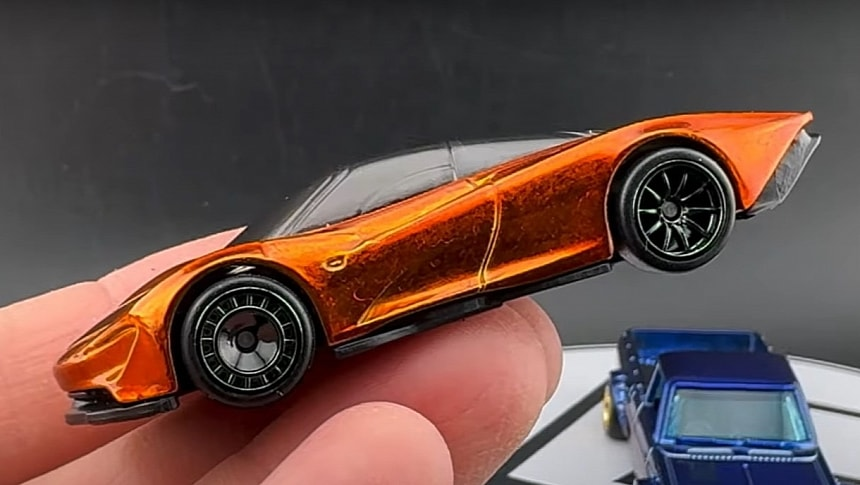Car: (20, 28, 845, 461), (601, 327, 834, 485)
